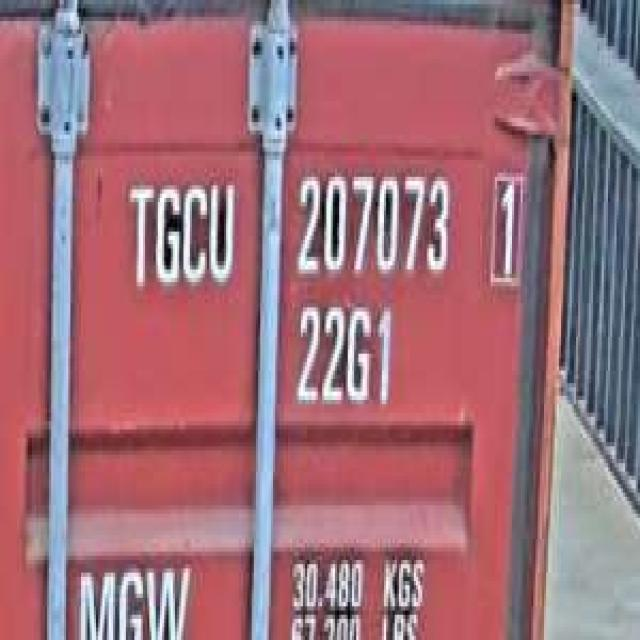dv: (487, 160, 528, 295)
owner: (122, 168, 239, 299)
serial: (290, 160, 455, 291)
size: (290, 295, 397, 421)
